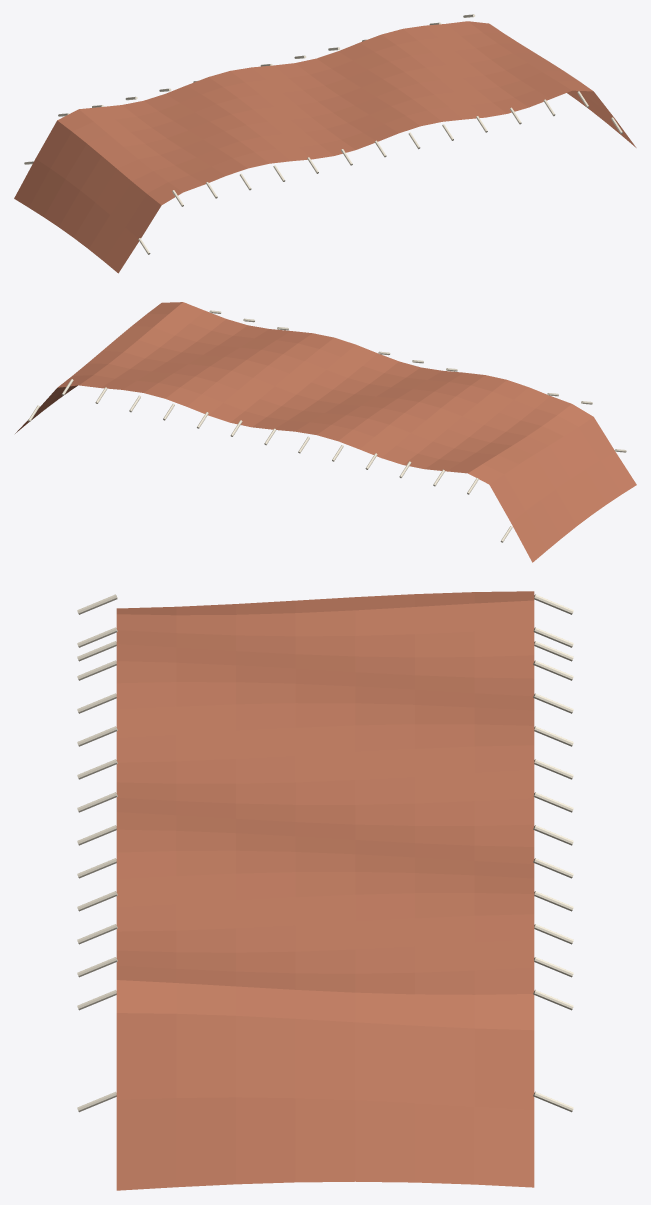
Rendered from throw_blanket.glb.
3 renders of one model, top to bottom at view 1: azimuth 30°, elevation 25°; view 2: azimuth 150°, elevation 25°; view 3: azimuth 270°, elevation 25°, orthographic. The views are drawn at different scales.
Parts seen in each view (by area): view 1: throw_blanket_Mesh; view 2: throw_blanket_Mesh; view 3: throw_blanket_Mesh.
Boxes of the visible parts, x1,y1,x2,y2 form: throw_blanket_Mesh: (14,14,636,273); throw_blanket_Mesh: (15,302,636,562); throw_blanket_Mesh: (77,591,573,1190).
Bounding box in the file's own units: 1.72 × 0.238 × 0.7133.
